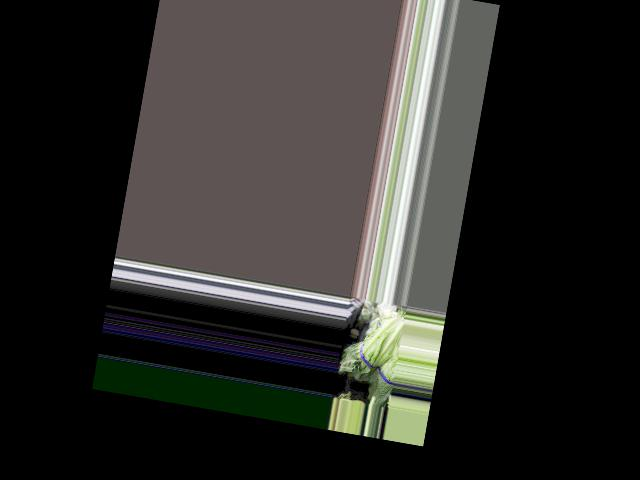lettuce: (342, 312, 404, 384)
